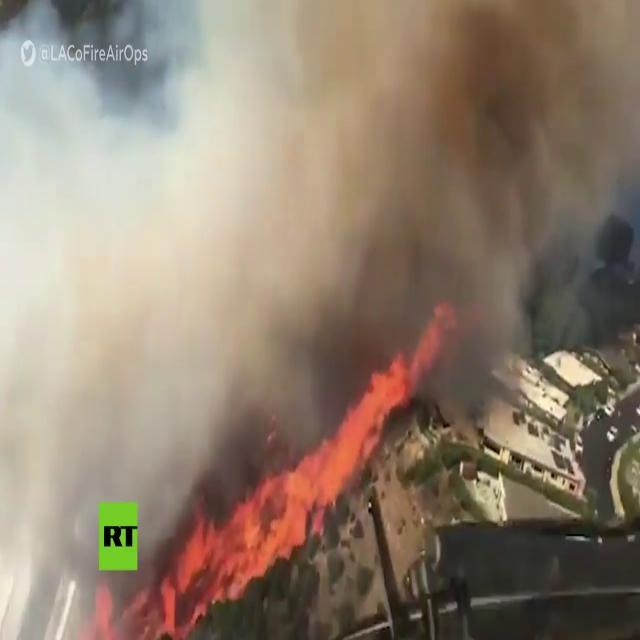Fire: (233, 474, 306, 586), (179, 519, 225, 615), (364, 374, 398, 446), (314, 437, 351, 503), (412, 322, 439, 388)
Smoke: (24, 150, 280, 412), (304, 10, 444, 294)
